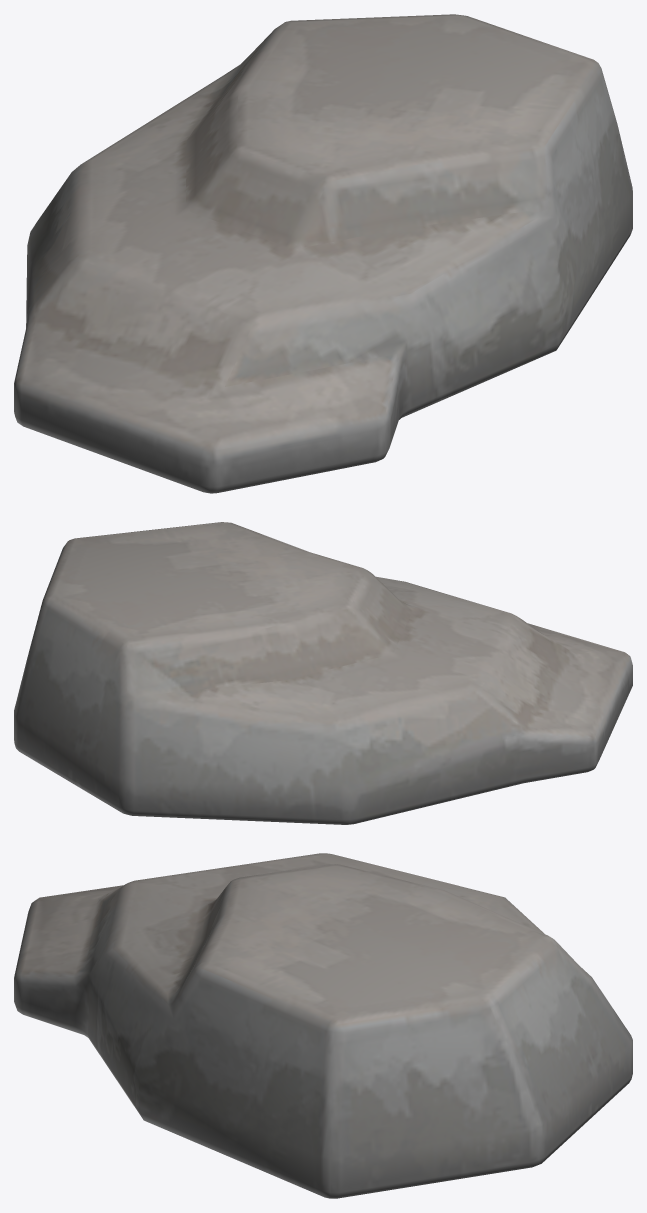
File: NormalRocks7V2.fbx
3 renders of one model, top to bottom at view 1: azimuth 30°, elevation 25°; view 2: azimuth 150°, elevation 25°; view 3: azimuth 270°, elevation 25°, orthographic. The views are drawn at different scales.
Parts seen in each view (by area): view 1: NormalRocks7V2; view 2: NormalRocks7V2; view 3: NormalRocks7V2.
Boxes of the visible parts, box(x1,y1,x2,y2) form: NormalRocks7V2: box(14, 14, 632, 493); NormalRocks7V2: box(14, 522, 632, 824); NormalRocks7V2: box(14, 853, 632, 1198).
Size of the model in its own units: 1.68 by 0.4443 by 1.49.
